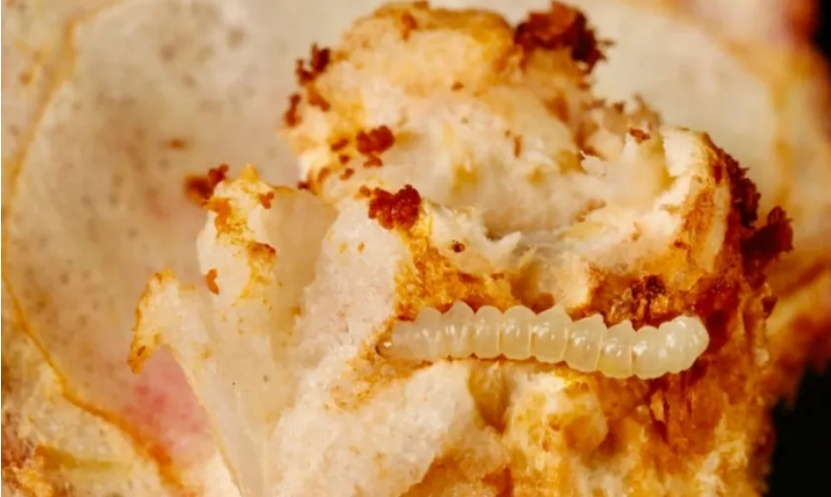Stink_Bug: (371, 305, 710, 383)
